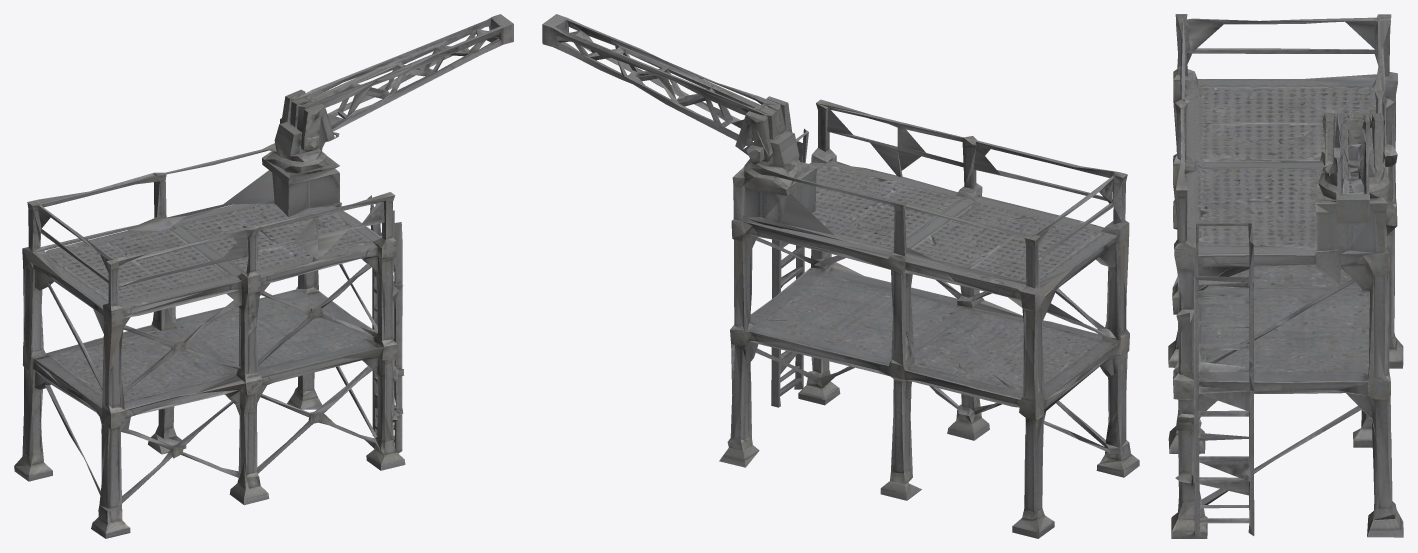
The model's file is shared_construction_scaffold_kit_lod1.glb.
3 views of the same model, side by side, from view 1: azimuth 30°, elevation 25°; view 2: azimuth 150°, elevation 25°; view 3: azimuth 270°, elevation 25° (orthographic). The views are drawn at different scales.
Visible parts, largest first — view 1: mesh_node; view 2: mesh_node; view 3: mesh_node.
Part boxes in pixels (<box>): mesh_node: <box>14,14,513,538</box>; mesh_node: <box>542,14,1139,538</box>; mesh_node: <box>1168,14,1403,538</box>.
Size of the model in its own units: 9.46 by 6.7 by 3.19.
Materials: 1 (1 with a texture image).
